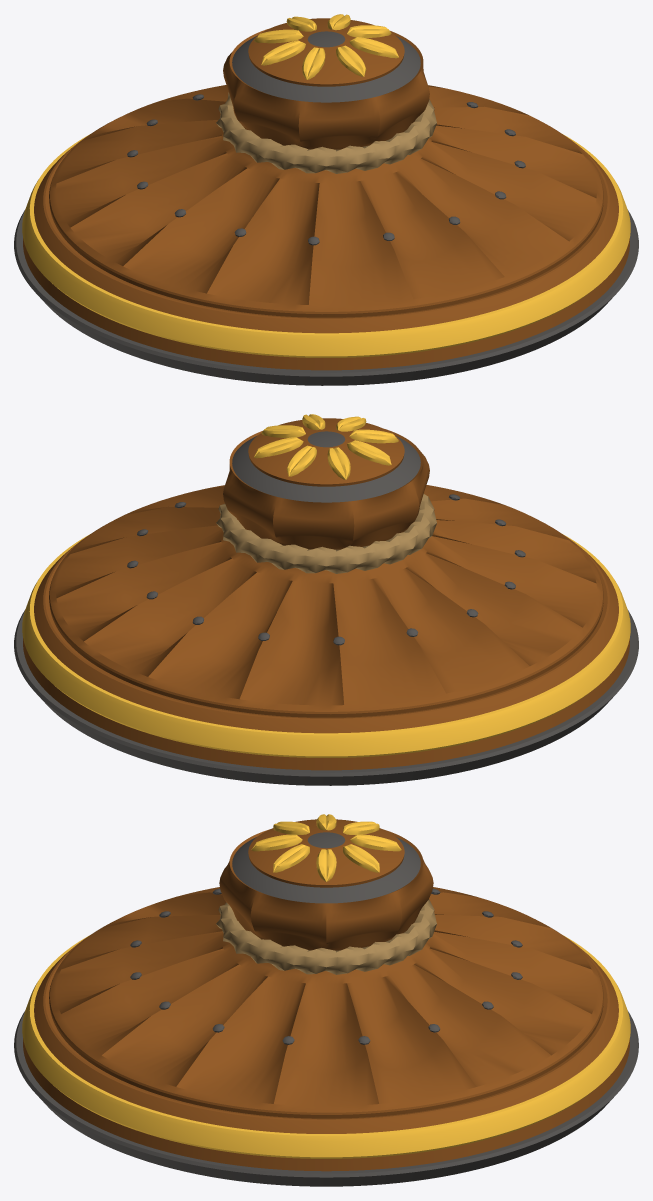
The model's file is gasing_perlis.glb.
3 views of the same model, one above another, from view 1: azimuth 30°, elevation 25°; view 2: azimuth 150°, elevation 25°; view 3: azimuth 270°, elevation 25° (orthographic).
Visible parts, largest first — view 1: Gasing_perlis; view 2: Gasing_perlis; view 3: Gasing_perlis.
Part boxes in pixels (x1,y1,x2,y2): Gasing_perlis: (14, 14, 638, 385); Gasing_perlis: (14, 414, 638, 785); Gasing_perlis: (14, 814, 638, 1186).
Bounding box in the file's own units: 1.12 × 0.6001 × 1.12.
